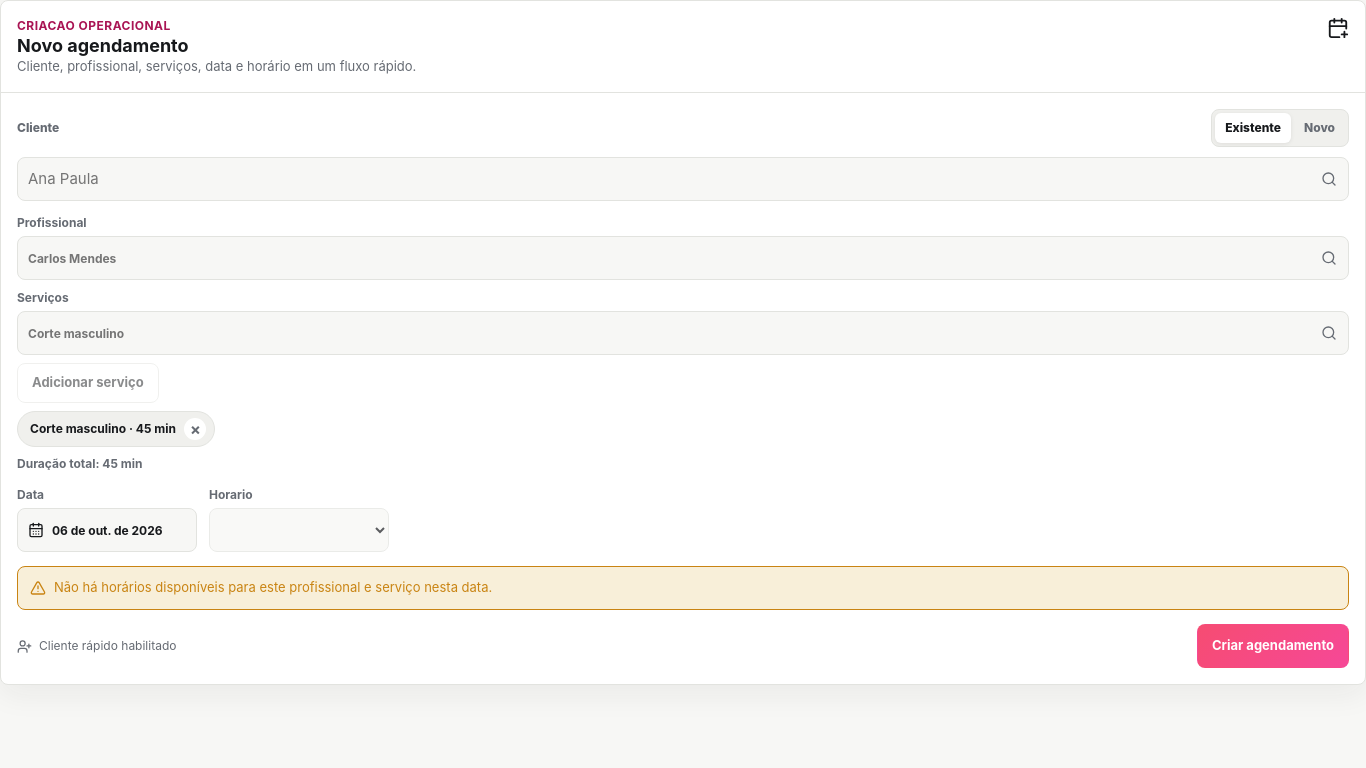
it: NewAppointmentFlow › resets services to options enabled for the selected professional
Expected: the text "Barba · 30 min" is not shown
Focus the dropdown labelled "Profissional" at (683, 258), box [17,236,1349,280]
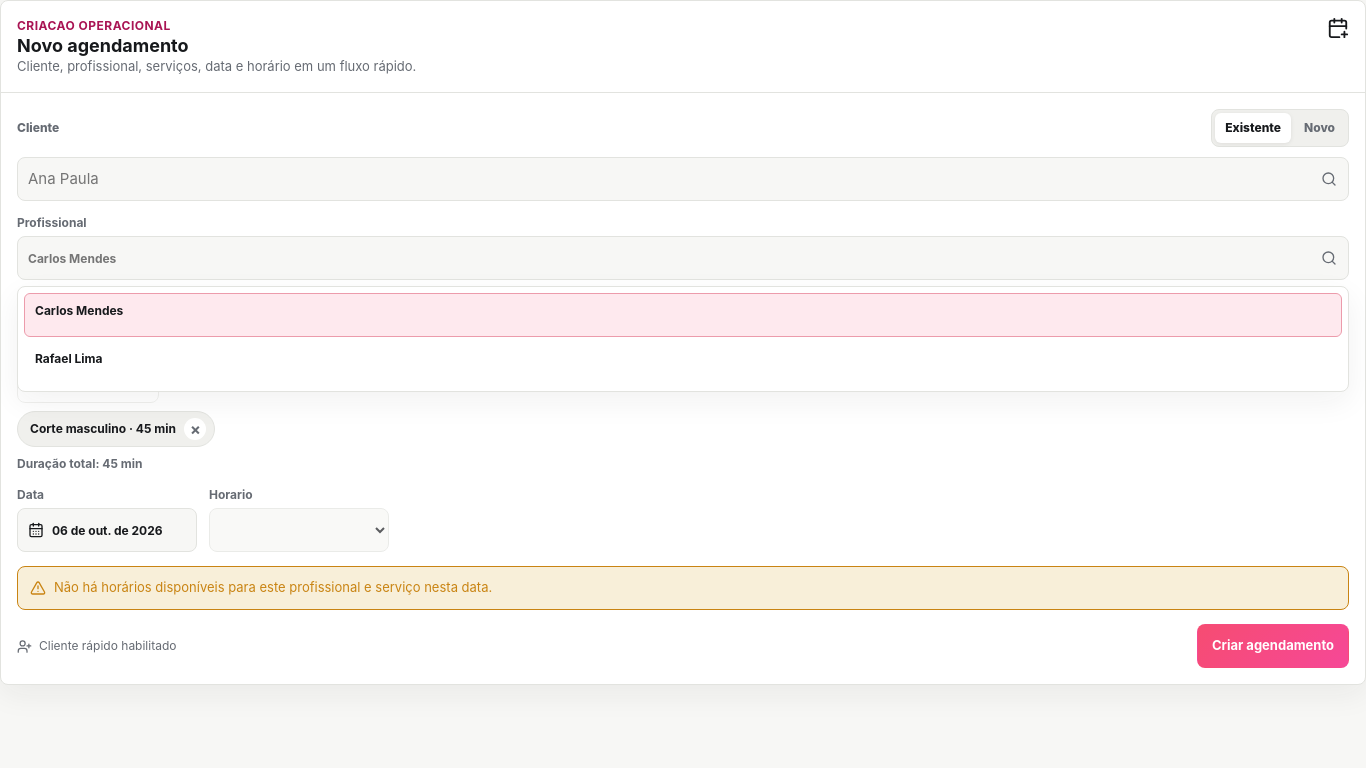
Result: the option "Rafael Lima" is shown
Click the option "Rafael Lima".
click(69, 359)  # box [24,341,1342,385]
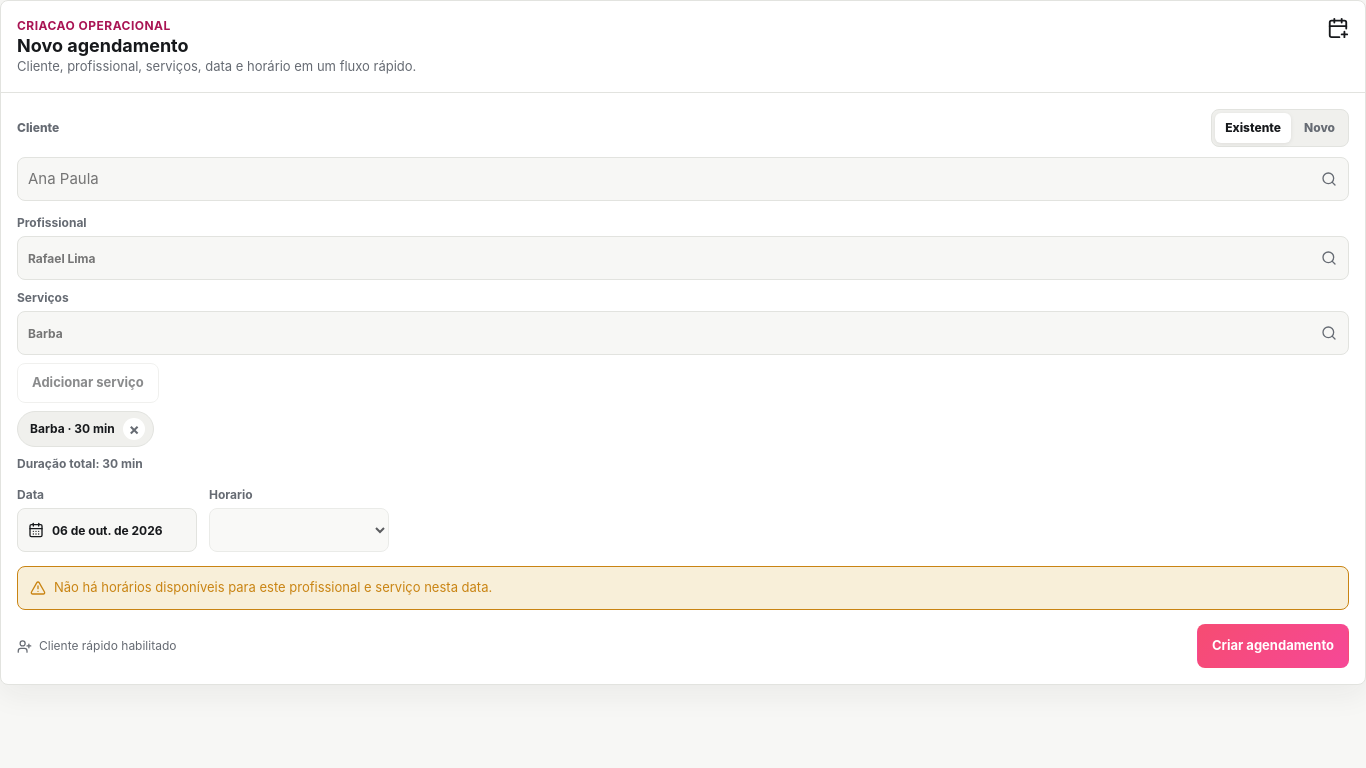
Result: the text "Barba · 30 min" is shown at [17,411,154,447]
Result: the text "Corte masculino · 45 min" is gone
